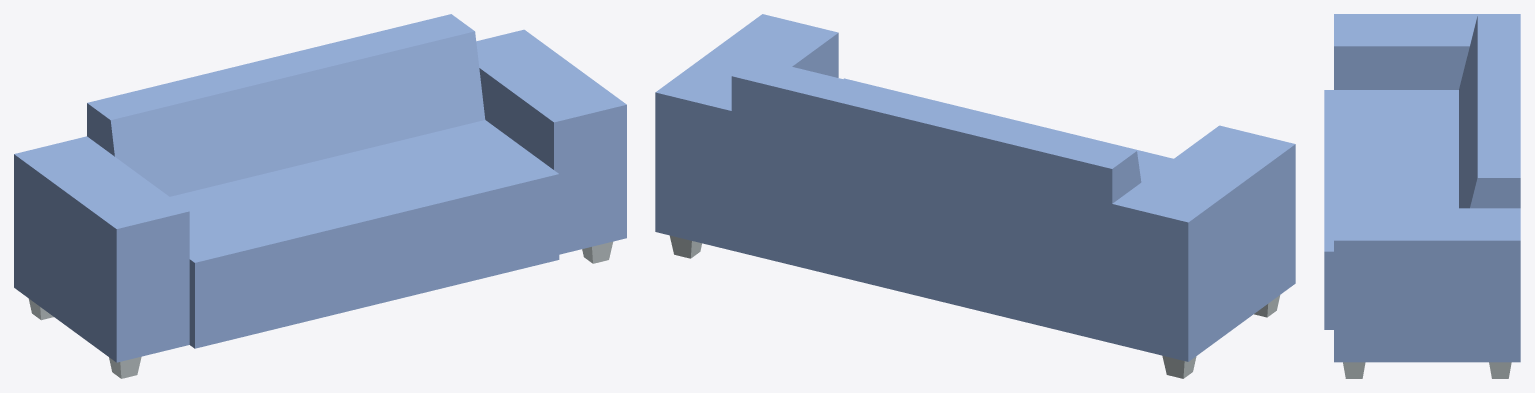
File: loungeDesignSofa.glb
The picture shows the model from 3 angles, left to right: view 1: azimuth 30°, elevation 25°; view 2: azimuth 150°, elevation 25°; view 3: azimuth 270°, elevation 25°; orthographic projection. The views are drawn at different scales.
Visible parts, largest first — view 1: loungeDesignSofa(Clone); view 2: loungeDesignSofa(Clone); view 3: loungeDesignSofa(Clone).
Part boxes in pixels (left/top/right/bottom): loungeDesignSofa(Clone): left=14, top=14, right=626, bottom=378; loungeDesignSofa(Clone): left=655, top=14, right=1295, bottom=378; loungeDesignSofa(Clone): left=1324, top=14, right=1520, bottom=378.
Size of the model in its own units: 1.12 by 0.4 by 0.41.
